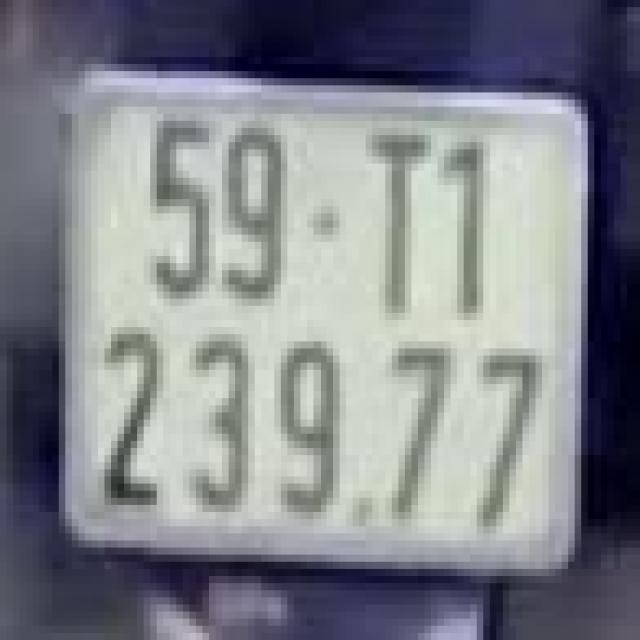1: (431, 121, 503, 327)
2: (91, 324, 170, 516)
3: (180, 327, 258, 526)
5: (137, 110, 222, 302)
7: (470, 338, 549, 544), (379, 331, 457, 537)
9: (268, 323, 346, 522), (225, 110, 291, 310)
T: (350, 114, 434, 320)
